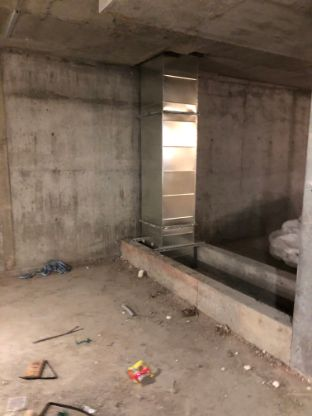Duct: (132, 49, 208, 273)
